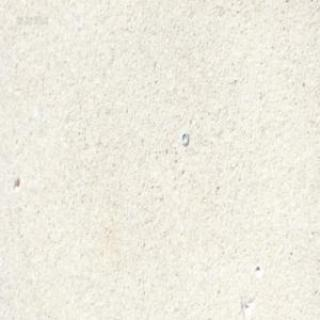Washertrack_idkeyframe: (172, 126, 198, 150)
